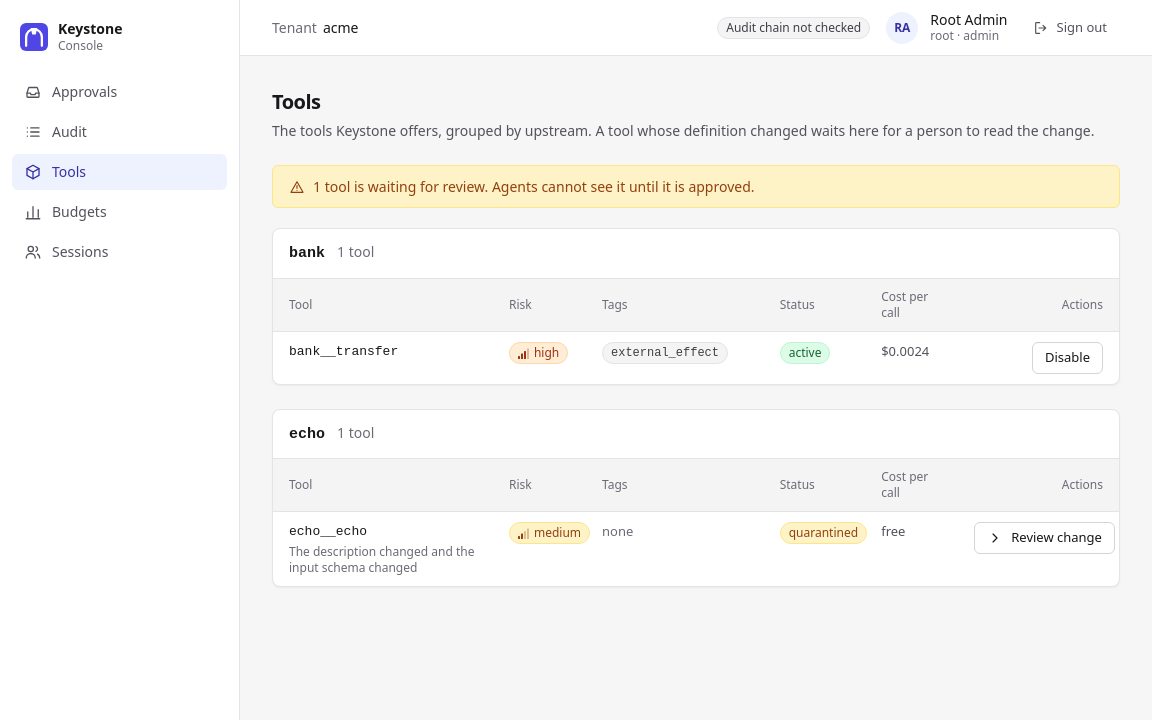
Scenario: shows diff for quarantined tool
What coordinates should you click on to do the following:
click the button "Review change"
I would click on:
 (1045, 538)
Its box is [974,522,1115,554].
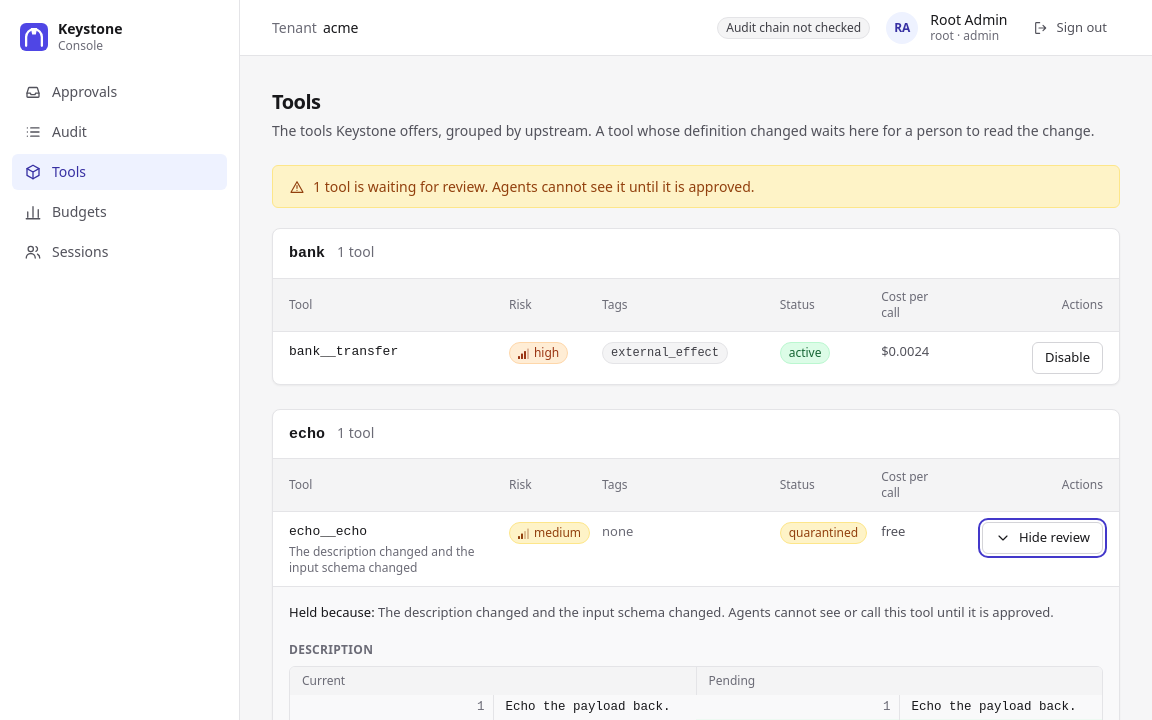
Now the text "Echo the payload back." is shown 2 times, box [493,695,696,719]; [899,695,1102,719]
Now the column heading "Current" is shown, box [290,667,696,695]
Now the column heading "Pending" is shown, box [696,667,1102,695]
